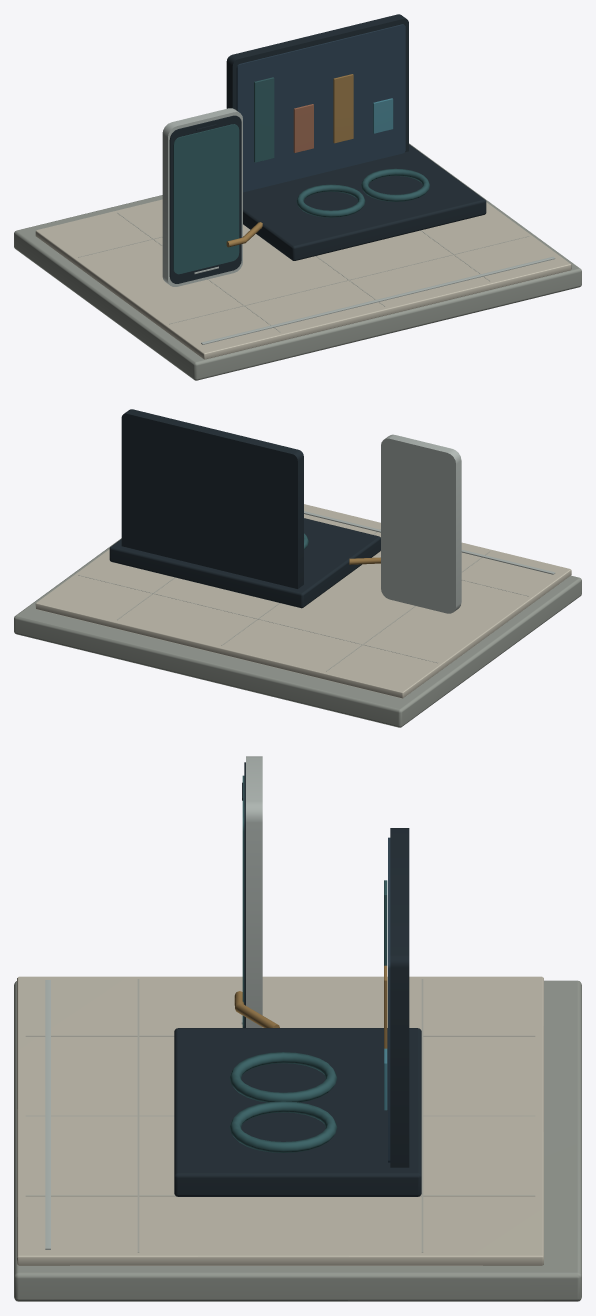
File: idea-59662f82.glb
3 renders of one model, top to bottom at view 1: azimuth 30°, elevation 25°; view 2: azimuth 150°, elevation 25°; view 3: azimuth 270°, elevation 25°, orthographic. The views are drawn at different scales.
Visible parts, largest first — view 1: RigPulse / Predator Sense; view 2: RigPulse / Predator Sense; view 3: RigPulse / Predator Sense.
Boxes of the visible parts, x1,y1,x2,y2 form: RigPulse / Predator Sense: (14, 14, 581, 380); RigPulse / Predator Sense: (14, 409, 581, 727); RigPulse / Predator Sense: (14, 756, 581, 1301).
Size of the model in its own units: 4.8 by 2.3 by 3.9.
